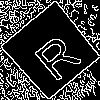R: (26, 26, 83, 84)
